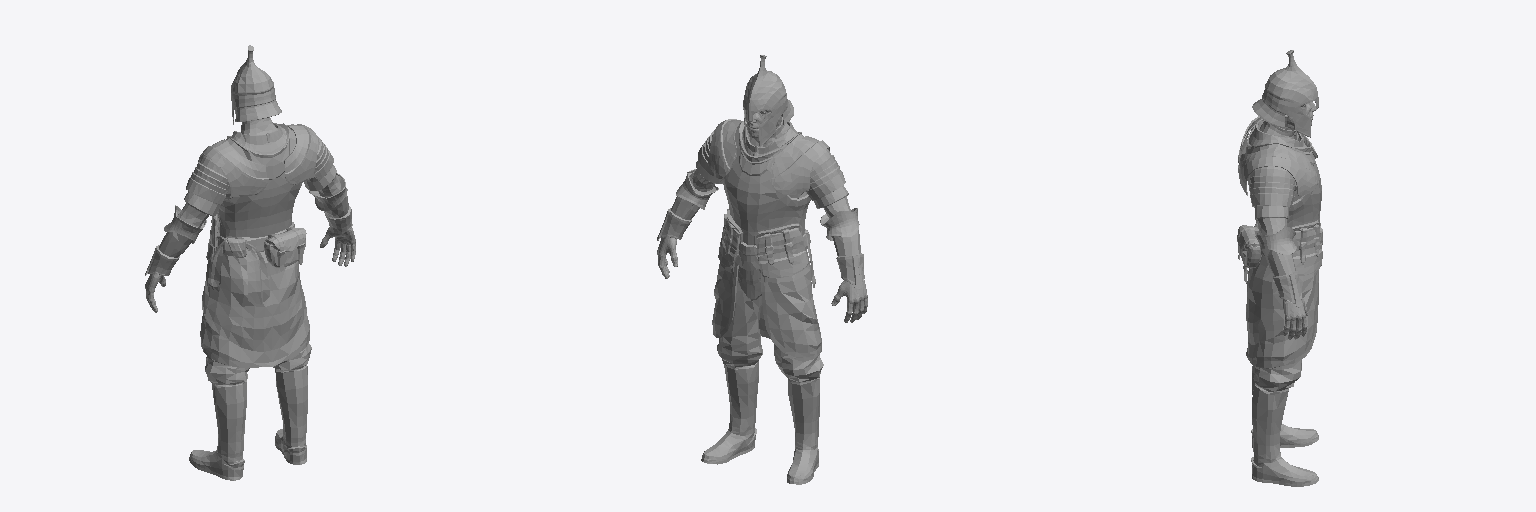
The model's file is CAVALIERE.obj.
The picture shows the model from 3 angles: view 1: azimuth 30°, elevation 25°; view 2: azimuth 150°, elevation 25°; view 3: azimuth 270°, elevation 25°; orthographic projection.
Parts seen in each view (by area): view 1: Mesh5 Model, Mesh2 Model, Mesh24 Model, Mesh17 Model, Mesh15 Model, Mesh4 Model, Mesh18 Model, Mesh20 Model, Mesh6 Model, Mesh3 Model, Mesh25 Model, Mesh19 Model (+1 smaller); view 2: Mesh5 Model, Mesh2 Model, Mesh24 Model, Mesh17 Model, Mesh15 Model, Mesh20 Model, Mesh18 Model, Mesh25 Model, Mesh1 Model, Mesh19 Model, Mesh14 Model, Mesh3 Model; view 3: Mesh5 Model, Mesh2 Model, Mesh24 Model, Mesh15 Model, Mesh16 Model, Mesh25 Model, Mesh4 Model, Mesh3 Model, Mesh14 Model.
Boxes of the visible parts, box(x1,y1,x2,y2) form: Mesh5 Model: box(189, 247, 311, 480); Mesh2 Model: box(184, 123, 336, 260); Mesh24 Model: box(231, 45, 281, 124); Mesh17 Model: box(198, 139, 268, 197); Mesh15 Model: box(284, 124, 317, 185); Mesh4 Model: box(264, 227, 306, 271); Mesh18 Model: box(186, 155, 229, 204); Mesh20 Model: box(145, 232, 192, 275); Mesh6 Model: box(246, 240, 269, 304); Mesh3 Model: box(320, 227, 355, 266); Mesh25 Model: box(324, 195, 352, 233); Mesh19 Model: box(164, 205, 206, 243); Mesh5 Model: box(701, 249, 823, 484); Mesh2 Model: box(696, 121, 848, 277); Mesh24 Model: box(743, 55, 793, 146); Mesh17 Model: box(770, 136, 829, 194); Mesh15 Model: box(708, 119, 742, 178); Mesh20 Model: box(832, 230, 864, 289); Mesh18 Model: box(806, 149, 845, 200); Mesh25 Model: box(657, 196, 699, 240); Mesh1 Model: box(831, 280, 867, 322); Mesh19 Model: box(820, 208, 859, 240); Mesh14 Model: box(676, 169, 718, 209); Mesh3 Model: box(657, 237, 677, 278); Mesh5 Model: box(1246, 255, 1318, 486); Mesh2 Model: box(1245, 119, 1322, 275); Mesh24 Model: box(1252, 50, 1318, 137); Mesh15 Model: box(1238, 147, 1317, 195); Mesh16 Model: box(1250, 166, 1295, 208); Mesh25 Model: box(1262, 249, 1302, 307); Mesh4 Model: box(1237, 225, 1261, 271); Mesh3 Model: box(1283, 298, 1308, 339); Mesh14 Model: box(1255, 227, 1296, 254).
Bounding box in the file's own units: 41.77 × 79.41 × 15.19.